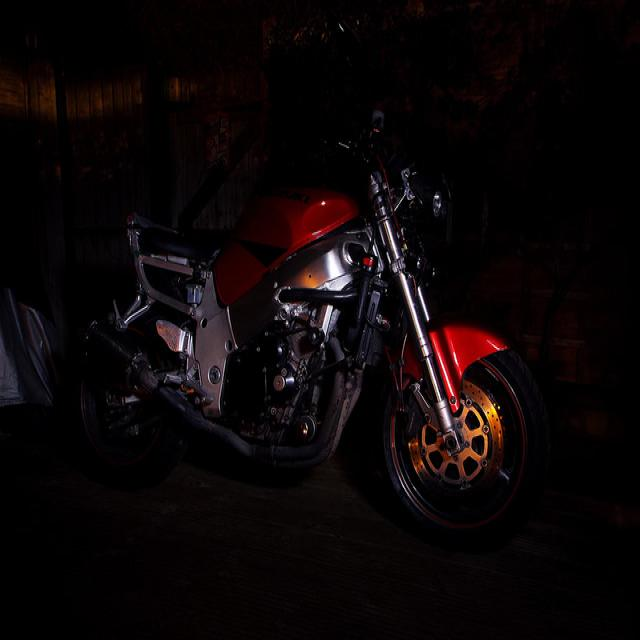Motorbike: (75, 155, 506, 519)
